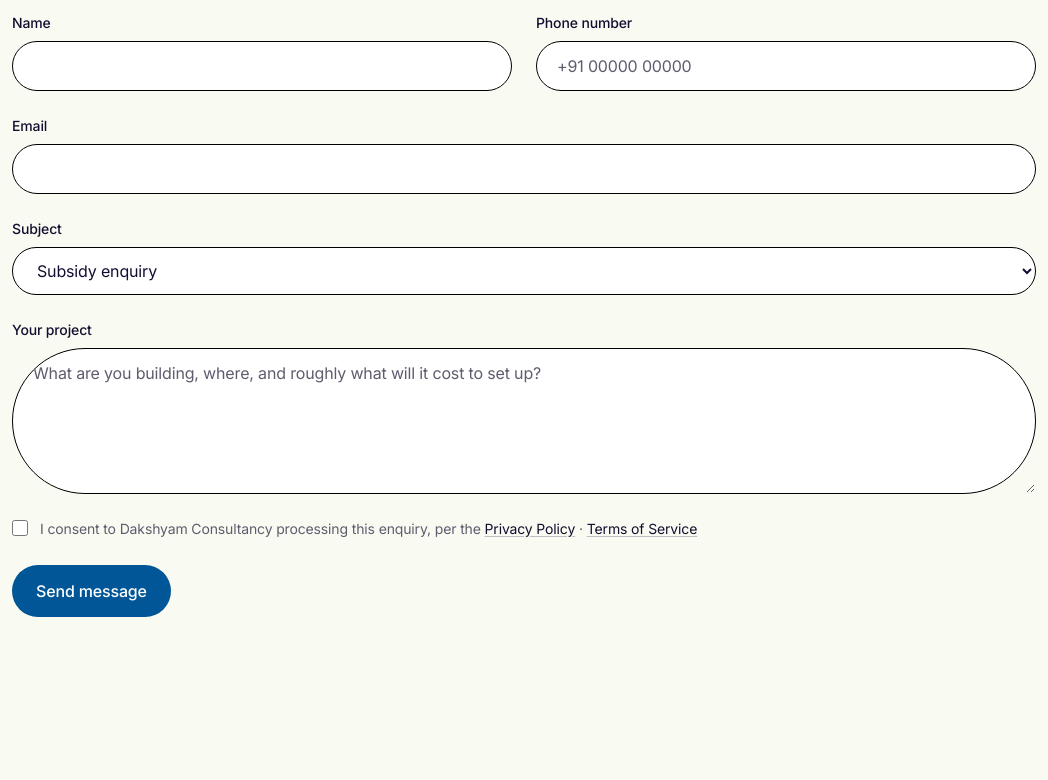
ContactForm › marks only the fields that failed
Click the button "Send message" at (91, 591), box [12, 565, 171, 617]
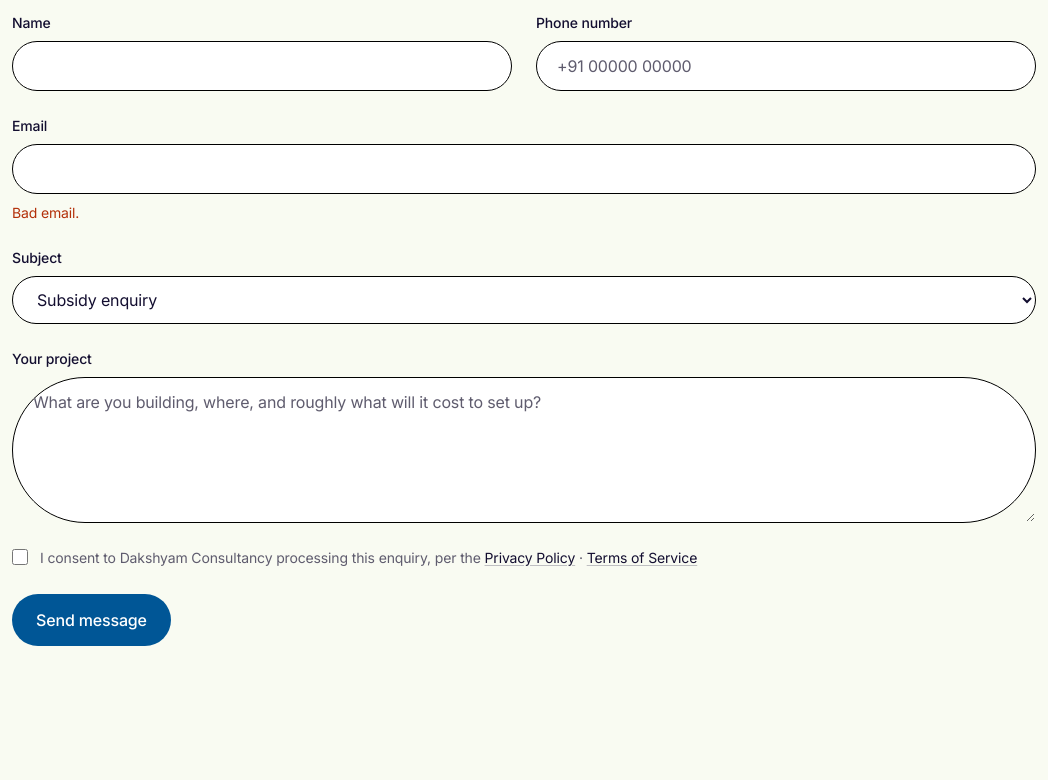
Now the text "Bad email." is shown, box [12, 204, 79, 221]
